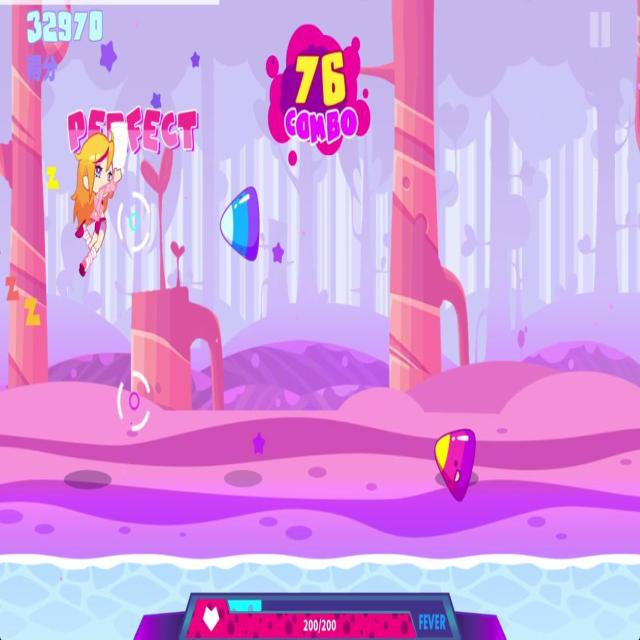jian: (428, 418, 479, 508), (217, 180, 264, 266)
